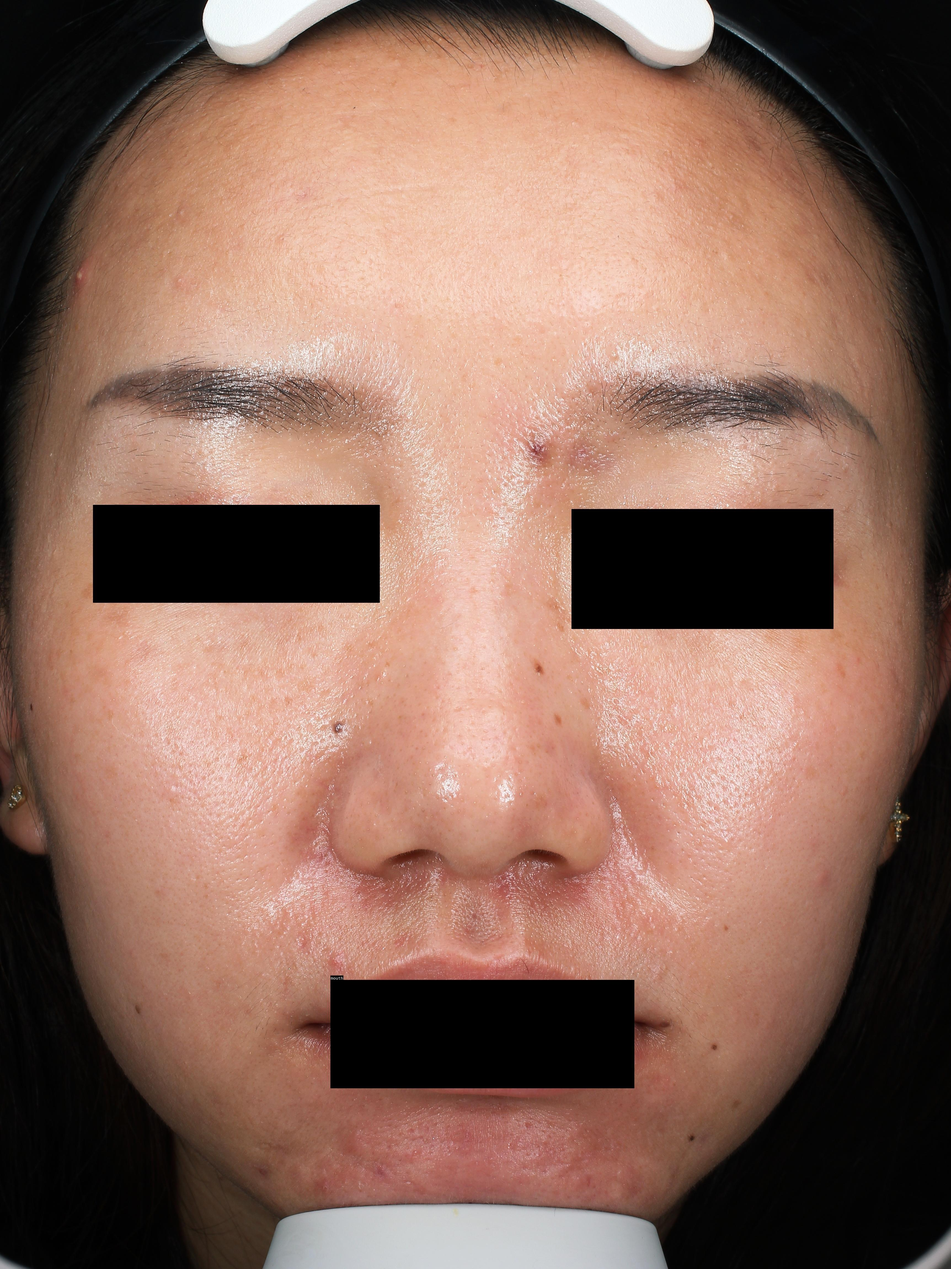atrophic_scar: (572, 441, 608, 474), (277, 912, 290, 937), (293, 933, 309, 951), (189, 870, 204, 881), (256, 1141, 272, 1151), (293, 190, 309, 200), (509, 743, 521, 754), (611, 697, 622, 707), (525, 1121, 533, 1132), (470, 913, 478, 922), (405, 1128, 415, 1135), (453, 707, 462, 713)
closed_comedo: (164, 784, 181, 798), (722, 252, 734, 262), (178, 208, 187, 218), (610, 350, 619, 360), (695, 138, 706, 146), (570, 119, 579, 128), (723, 838, 731, 846), (709, 161, 715, 167), (393, 57, 399, 63), (756, 111, 762, 117), (674, 927, 680, 933), (729, 214, 734, 220)
melasma: (546, 596, 573, 633), (763, 628, 779, 646), (82, 583, 97, 601), (829, 629, 841, 643), (836, 663, 846, 679), (580, 696, 591, 710), (282, 697, 293, 707)
nevus: (333, 722, 344, 734), (133, 1004, 142, 1017), (535, 663, 544, 675), (554, 715, 563, 726), (660, 1022, 670, 1028), (712, 1044, 719, 1052), (689, 1135, 696, 1143), (722, 924, 728, 933), (28, 705, 34, 714)
open_comedo: (606, 430, 619, 442), (649, 191, 662, 202), (278, 233, 288, 244), (379, 669, 387, 678), (222, 669, 228, 674), (617, 234, 621, 239)
other: (521, 430, 555, 462)
papule: (326, 951, 346, 972), (316, 1177, 331, 1193), (813, 870, 829, 884)
pustule: (75, 259, 91, 289), (174, 276, 186, 288)
